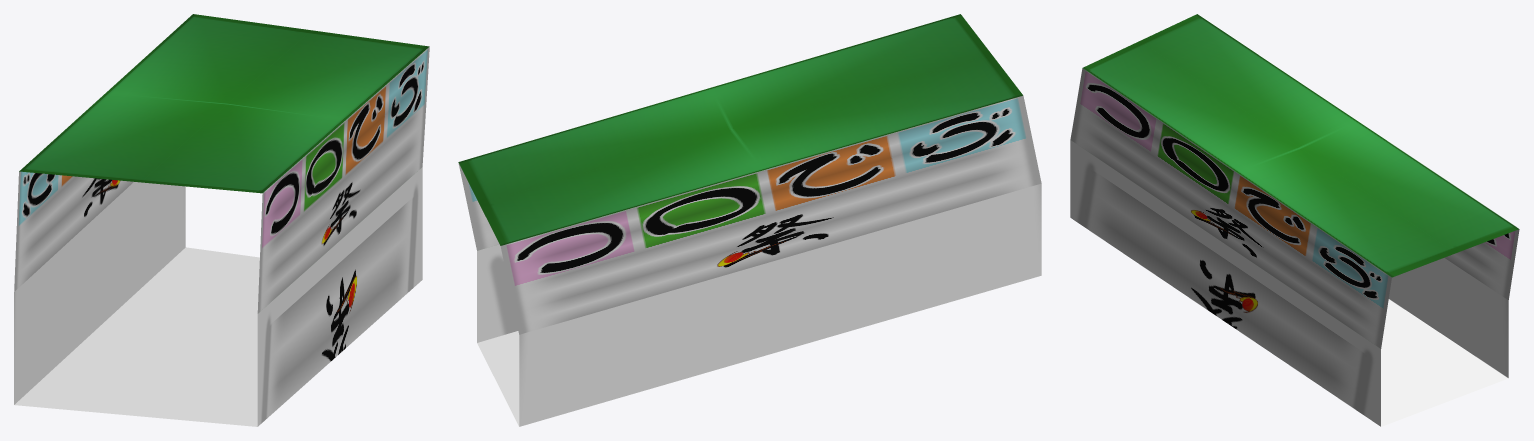
The model's file is CourseAki_Wall_L_6_8.fbx.
3 views of the same model, side by side, from view 1: azimuth 30°, elevation 25°; view 2: azimuth 150°, elevation 25°; view 3: azimuth 270°, elevation 25° (orthographic). The views are drawn at different scales.
Visible parts, largest first — view 1: polySurface368; view 2: polySurface368; view 3: polySurface368.
Boxes of the visible parts, x1=… form: polySurface368: x1=14, y1=14, x2=429, y2=426; polySurface368: x1=458, y1=14, x2=1041, y2=426; polySurface368: x1=1070, y1=14, x2=1519, y2=426.
Size of the model in its own units: 5.24 by 2.98 by 5.22.
1 material, 1 textured.
